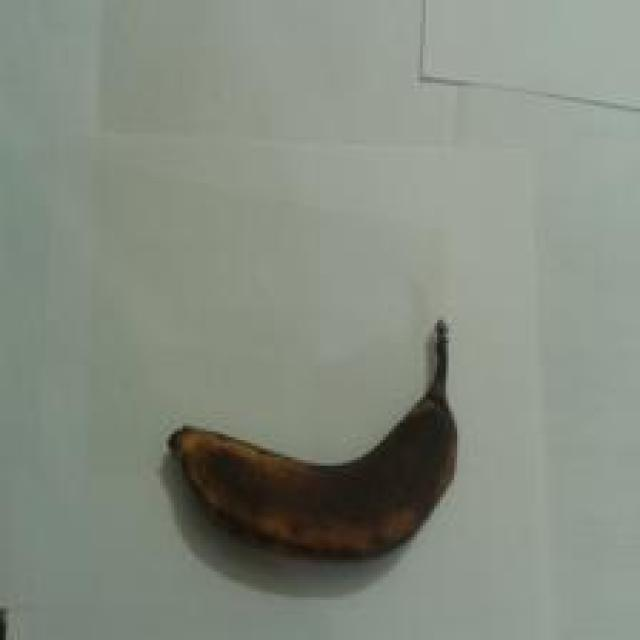Rotten_Banana: (127, 332, 494, 568)
